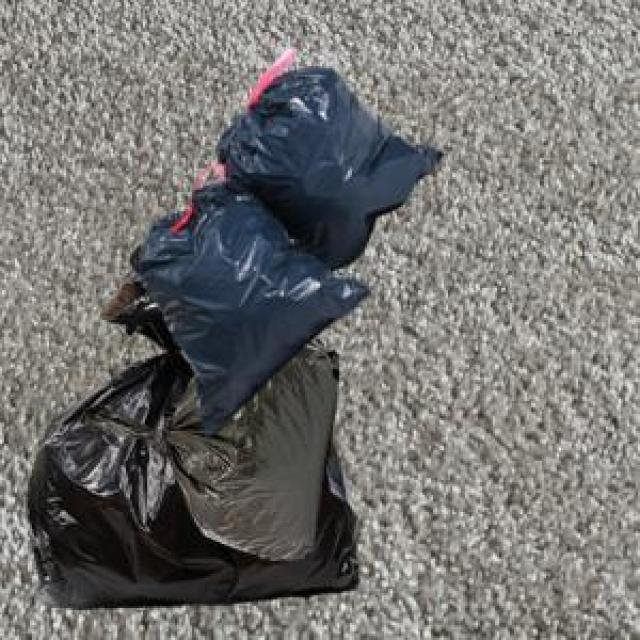waste: (29, 52, 442, 608)
